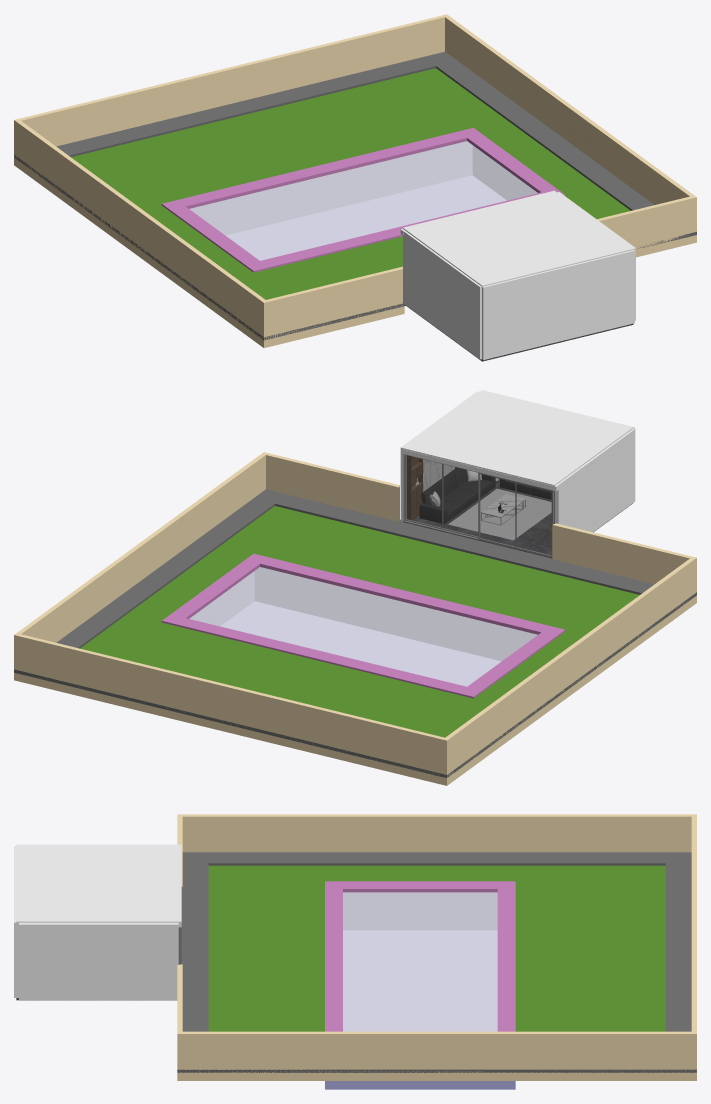
Rendered from room.glb.
3 views of the same model, one above another, from view 1: azimuth 30°, elevation 25°; view 2: azimuth 150°, elevation 25°; view 3: azimuth 270°, elevation 25° (orthographic). The views are drawn at different scales.
Visible parts, largest first — view 1: Rectangle008, Box007, Rectangle005, Box031, Rectangle001, Box003, Rectangle006, Rectangle002, Rectangle007, Box002; view 2: Rectangle008, Box007, Rectangle005, Rectangle001, Box031, Rectangle006, SlidingWindow001, Rectangle002, Rectangle007, Box002, Box018, Box001 (+2 smaller); view 3: Box007, Rectangle008, Rectangle005, Rectangle001, Rectangle007, Box031, Box005, Rectangle002, Rectangle006, Box003.
Part boxes in pixels (x1,y1,x2,y2): Rectangle008: [14, 14, 696, 347]; Box007: [71, 68, 630, 299]; Rectangle005: [189, 141, 537, 260]; Box031: [403, 190, 633, 286]; Rectangle001: [14, 51, 696, 340]; Box003: [482, 250, 634, 359]; Rectangle006: [190, 141, 537, 235]; Rectangle002: [161, 128, 565, 272]; Rectangle007: [226, 175, 506, 260]; Box002: [403, 230, 481, 359]; Rectangle008: [14, 452, 696, 785]; Box007: [80, 506, 639, 737]; Rectangle005: [189, 567, 537, 686]; Rectangle001: [14, 489, 696, 778]; Box031: [403, 390, 633, 486]; Rectangle006: [190, 567, 536, 660]; SlidingWindow001: [403, 454, 554, 557]; Rectangle002: [161, 553, 565, 698]; Rectangle007: [220, 601, 500, 686]; Box002: [555, 428, 635, 532]; Box018: [448, 488, 551, 540]; Box001: [403, 479, 632, 558]; Box007: [208, 865, 665, 1031]; Rectangle008: [177, 814, 696, 1080]; Rectangle005: [343, 892, 497, 1031]; Rectangle001: [177, 852, 696, 1072]; Rectangle007: [325, 930, 515, 1089]; Box031: [16, 844, 181, 922]; Box005: [19, 922, 178, 999]; Rectangle002: [325, 881, 515, 1031]; Rectangle006: [325, 892, 515, 1088]; Box003: [14, 846, 18, 997].
Size of the model in its own units: 20 by 5.41 by 26.29.
Materials: 44 (5 with a texture image).
